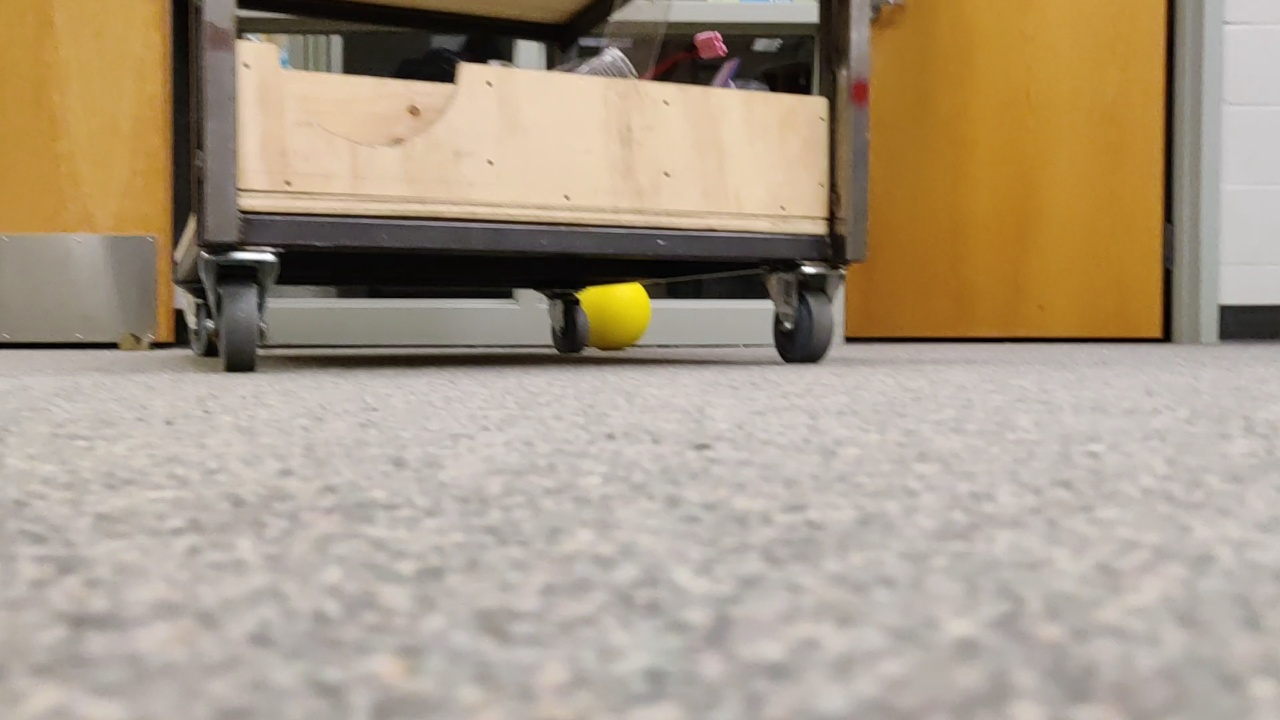Ball: (568, 269, 661, 366)
